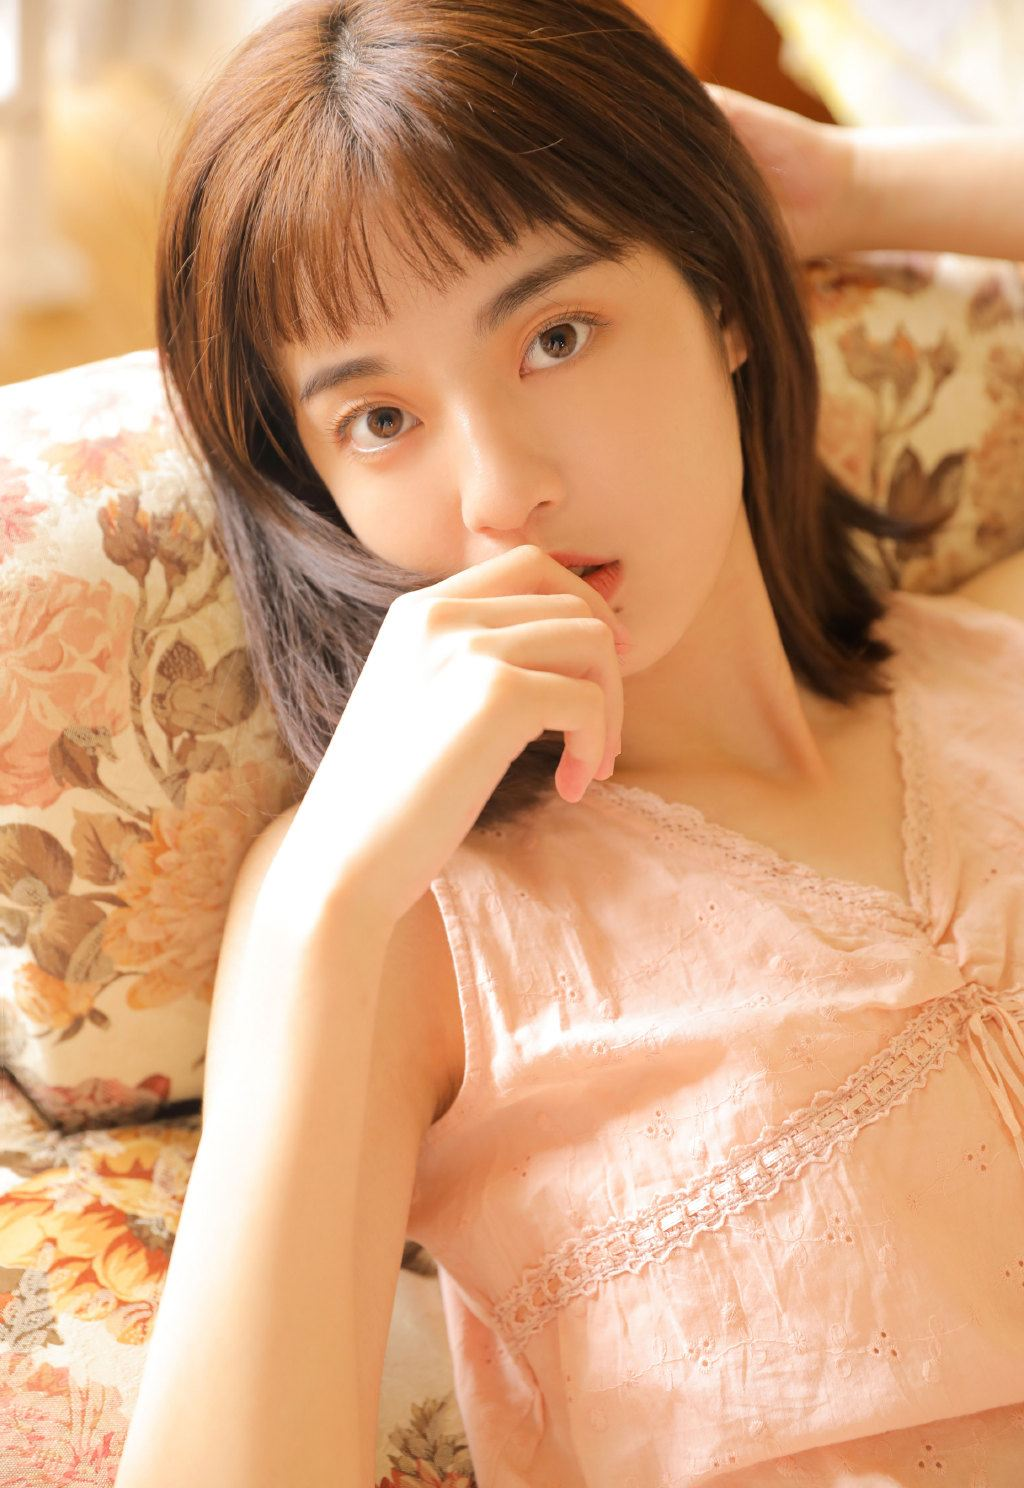person: (132, 8, 949, 1286)
